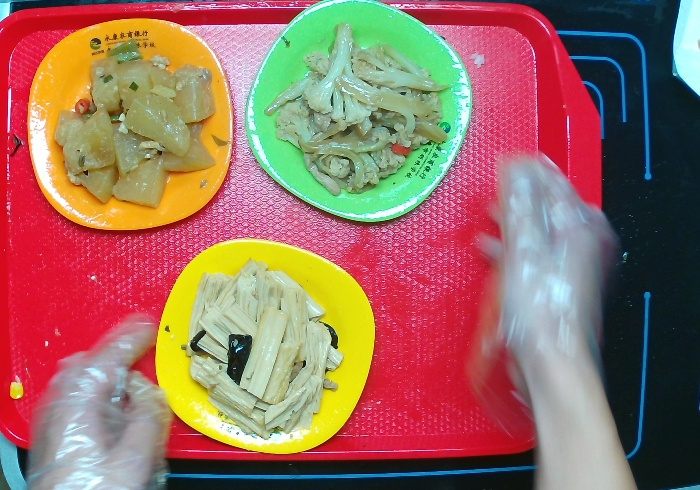YKMZ-Huang_Se_Fang_Die: (147, 227, 379, 459)
YKMZ-Ju_Se_Fang_Die: (20, 12, 241, 234)
YKMZ-Lv_Se_Fang_Die: (239, 1, 475, 229)
